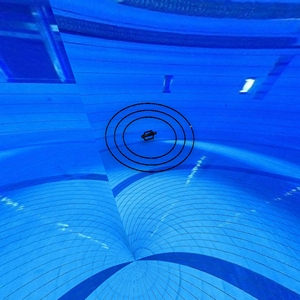circle: (102, 99, 201, 175)
submarine: (140, 128, 163, 144)
